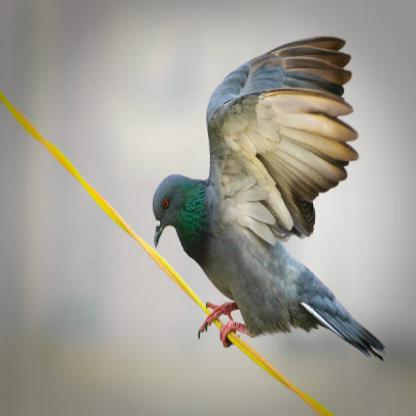Rock Pigeon: (150, 30, 383, 361)
